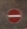No entry: (5, 6, 22, 24)
